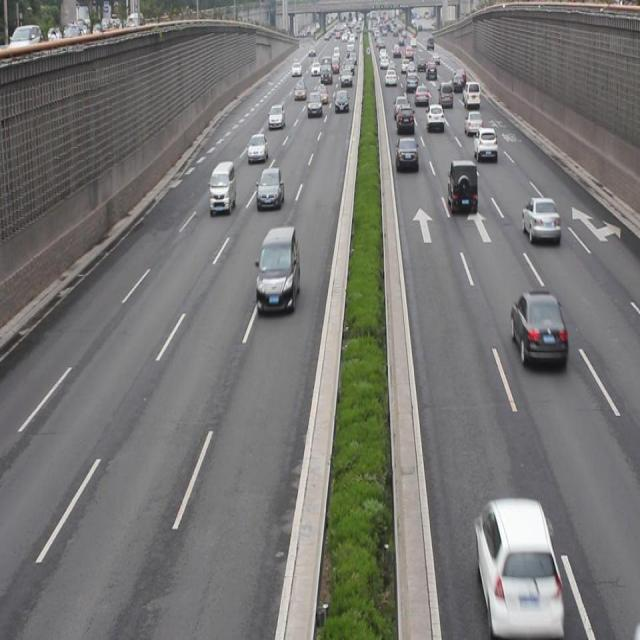car: (474, 497, 562, 629), (509, 291, 566, 368), (520, 194, 560, 246), (446, 158, 477, 215), (255, 165, 284, 213), (472, 126, 497, 161), (396, 135, 418, 172), (246, 132, 267, 164), (424, 102, 444, 133), (395, 103, 414, 134), (267, 102, 285, 130), (464, 110, 482, 134)
truck: (254, 227, 299, 316), (209, 161, 236, 215)
